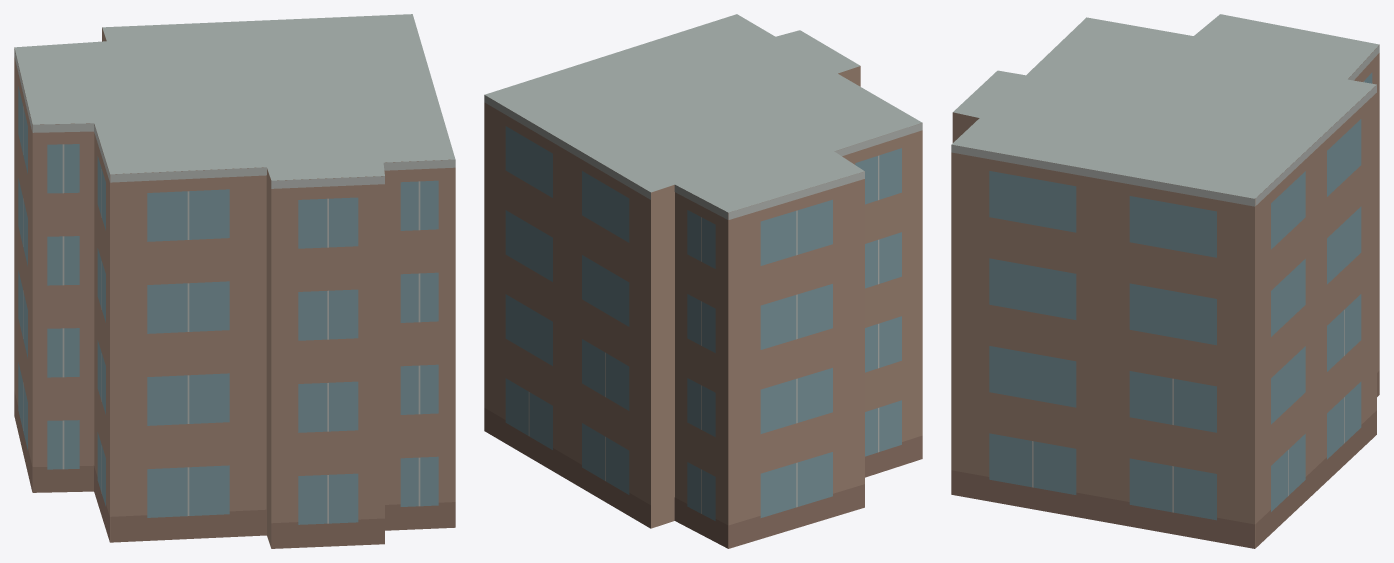
Rendered from survey-upis-32538608.glb.
The picture shows the model from 3 angles, left to right: view 1: azimuth 30°, elevation 25°; view 2: azimuth 150°, elevation 25°; view 3: azimuth 270°, elevation 25°; orthographic projection. The views are drawn at different scales.
Visible parts, largest first — view 1: survey-upis-32538608.tmp; view 2: survey-upis-32538608.tmp; view 3: survey-upis-32538608.tmp.
Boxes of the visible parts, x1,y1,x2,y2 form: survey-upis-32538608.tmp: (14,14,455,548); survey-upis-32538608.tmp: (484,14,922,548); survey-upis-32538608.tmp: (951,14,1379,548).
Size of the model in its own units: 12.35 by 10.9 by 12.1.
